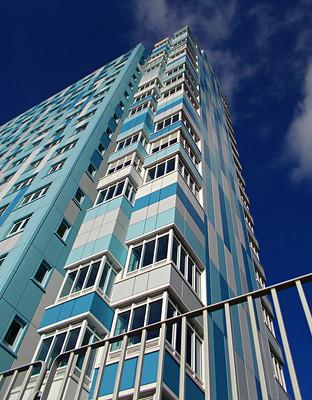building: (2, 11, 292, 400)
